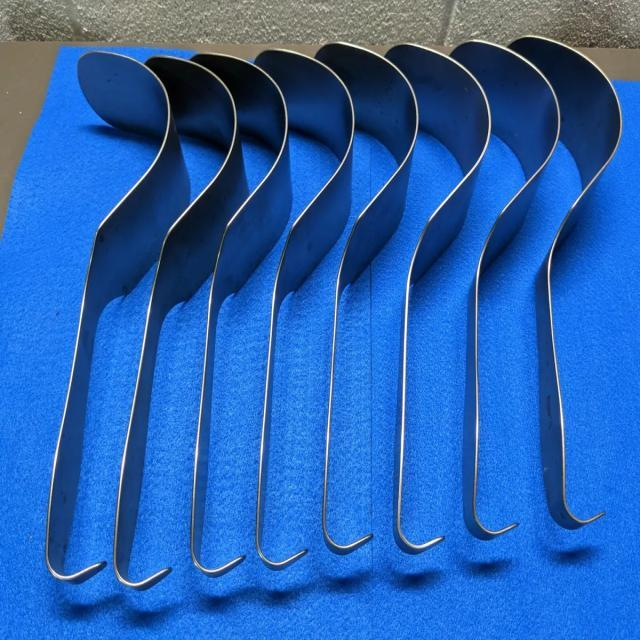Deaver Retractor: (33, 40, 194, 598), (105, 44, 241, 614), (250, 24, 360, 603), (185, 39, 300, 582), (392, 16, 494, 588), (515, 32, 631, 531), (454, 39, 560, 571), (323, 18, 424, 566)
